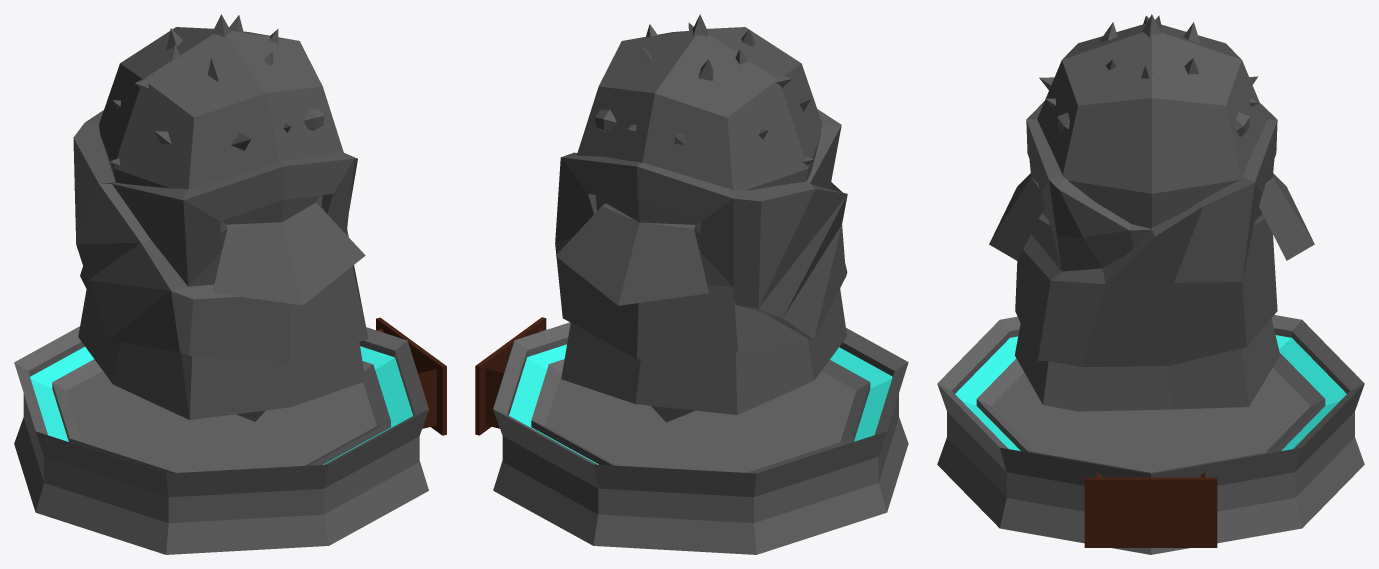
File: statue.glb
The picture shows the model from 3 angles, left to right: view 1: azimuth 30°, elevation 25°; view 2: azimuth 150°, elevation 25°; view 3: azimuth 270°, elevation 25°; orthographic projection.
Parts seen in each view (by area): view 1: Cone, Cylinder, Cube; view 2: Cone, Cylinder, Cube; view 3: Cone, Cylinder, Cube.
Part boxes in pixels (x1,y1,x2,y2): Cone: (73,14,368,421); Cylinder: (14,326,428,554); Cube: (376,317,446,435); Cone: (555,14,847,422); Cylinder: (493,322,908,554); Cube: (475,317,546,435); Cone: (989,14,1314,411); Cylinder: (937,315,1364,554); Cube: (1084,472,1217,547).
Size of the model in its own units: 4.32 by 4.94 by 4.25.
